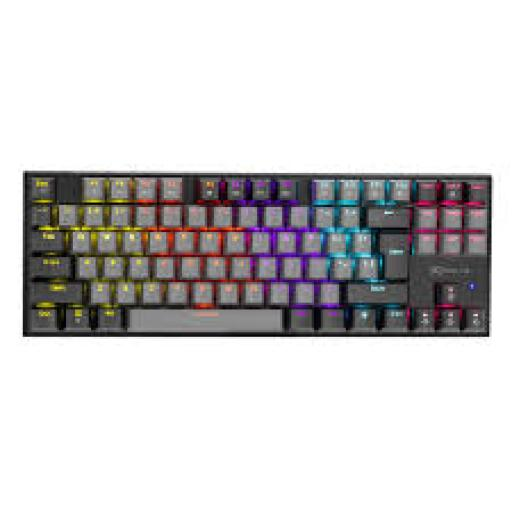KEYBOARD-2: (24, 171, 490, 337)
